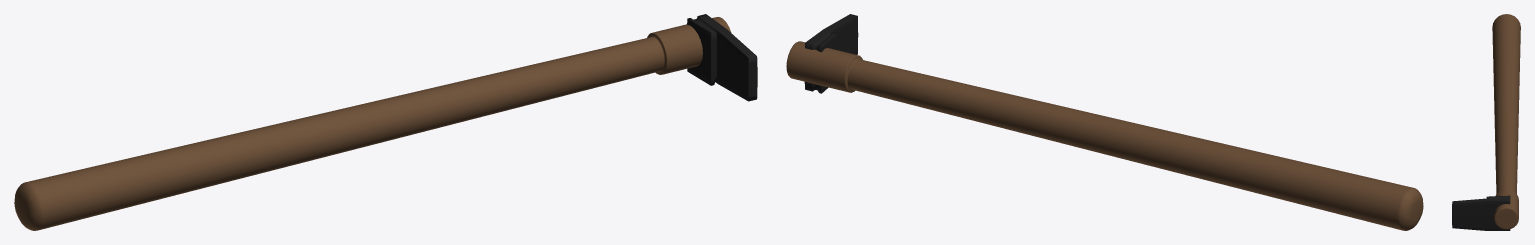
File: hoe.glb
The picture shows the model from 3 angles, left to right: view 1: azimuth 30°, elevation 25°; view 2: azimuth 150°, elevation 25°; view 3: azimuth 270°, elevation 25°; orthographic projection. The views are drawn at different scales.
Parts seen in each view (by area): view 1: hoe; view 2: hoe; view 3: hoe.
Boxes of the visible parts, <box> form: hoe: <box>14,14,757,230</box>; hoe: <box>786,14,1423,230</box>; hoe: <box>1452,14,1520,230</box>.
Size of the model in its own units: 13.84 by 1 by 2.07.
